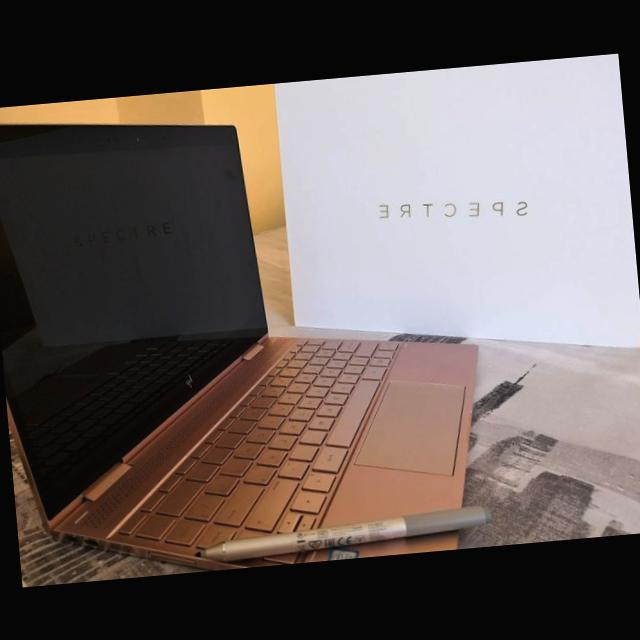laptop: (0, 82, 490, 561)
